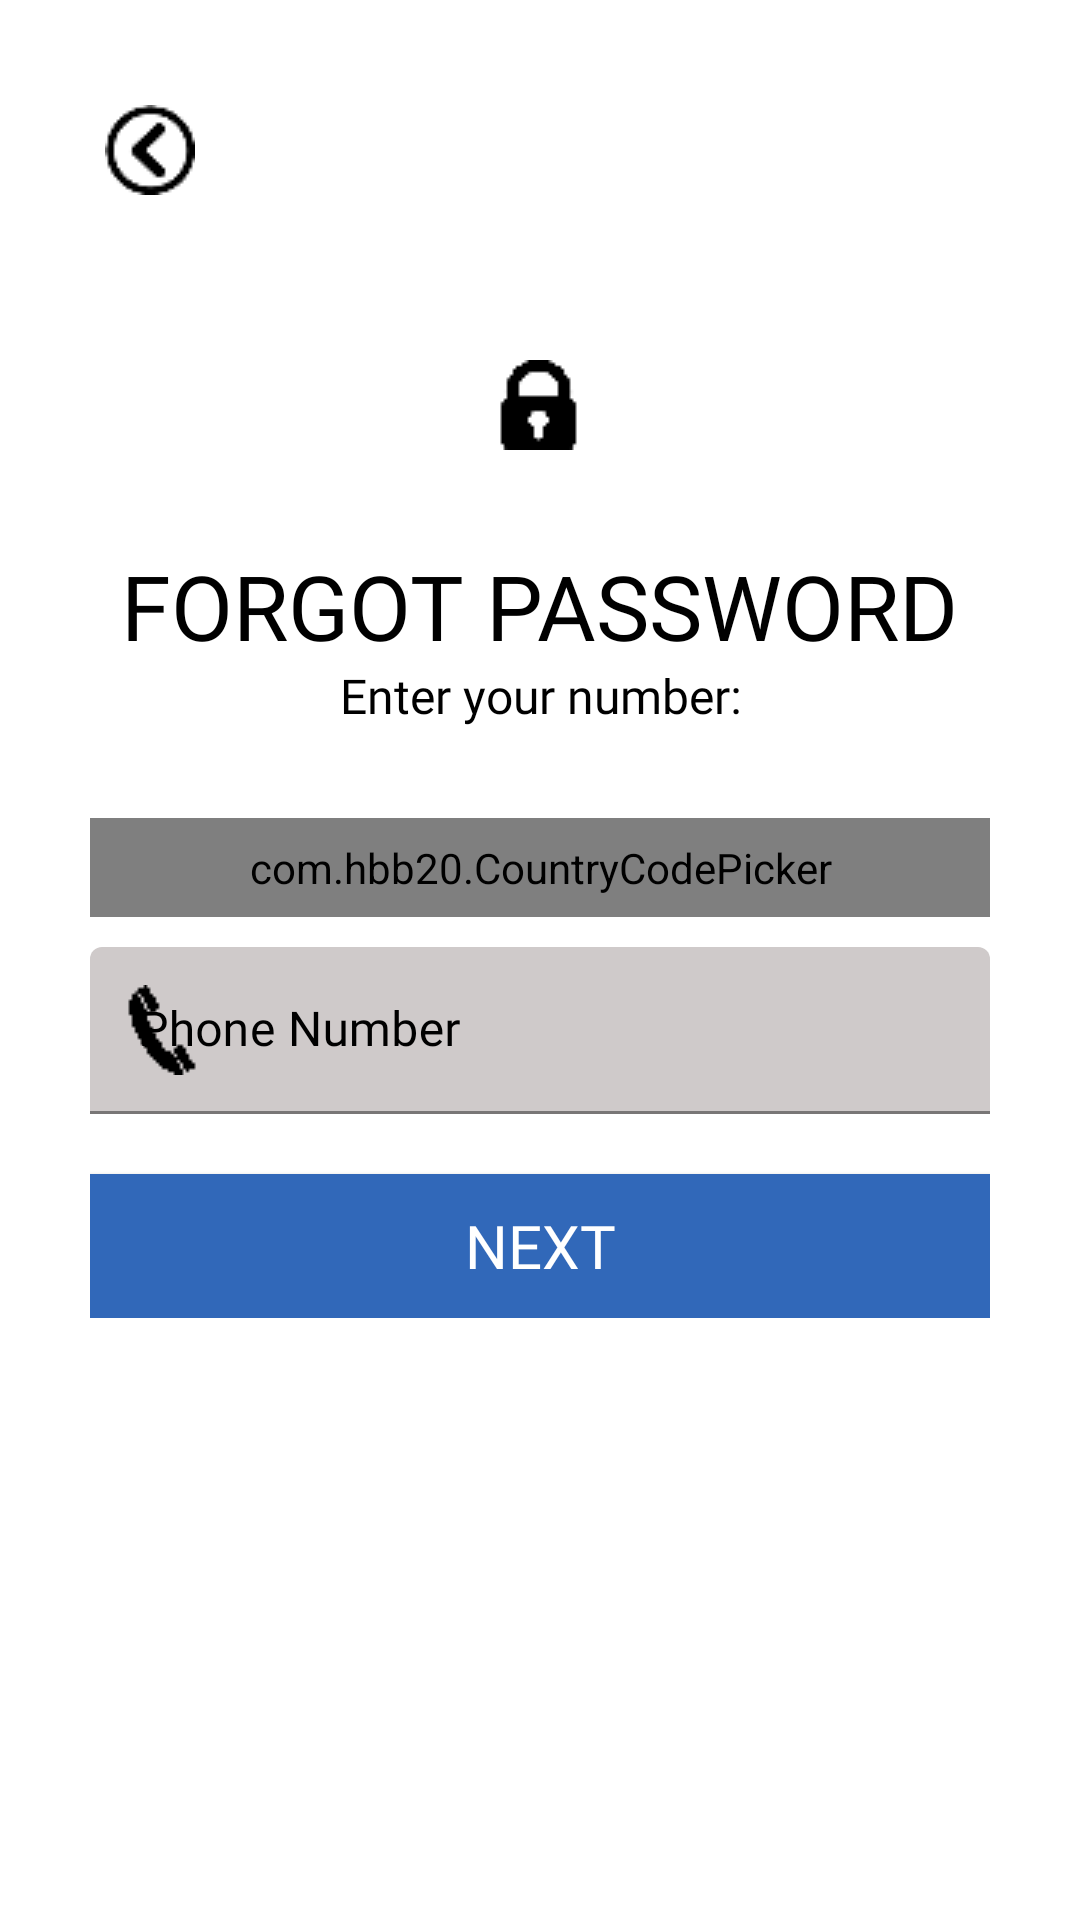

Screen size 1080px×1920px. Icon name, then its center in pixels as [x,y]:
backbtn: [150,150]
